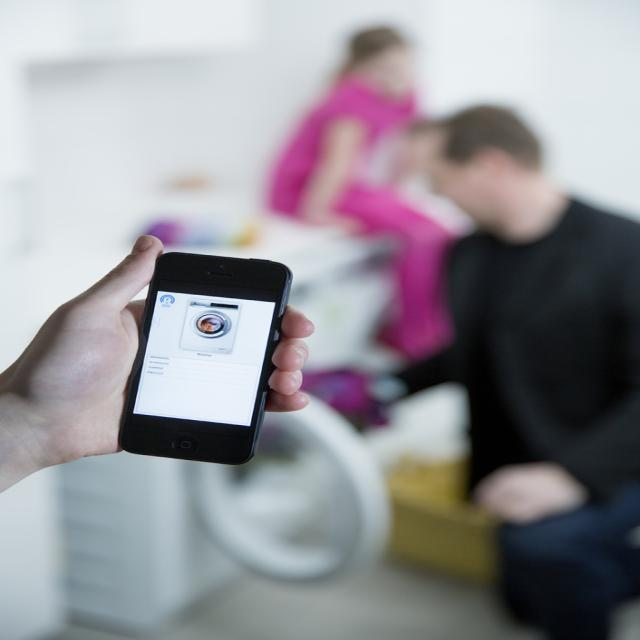Mobile-phone: (116, 250, 293, 468)
